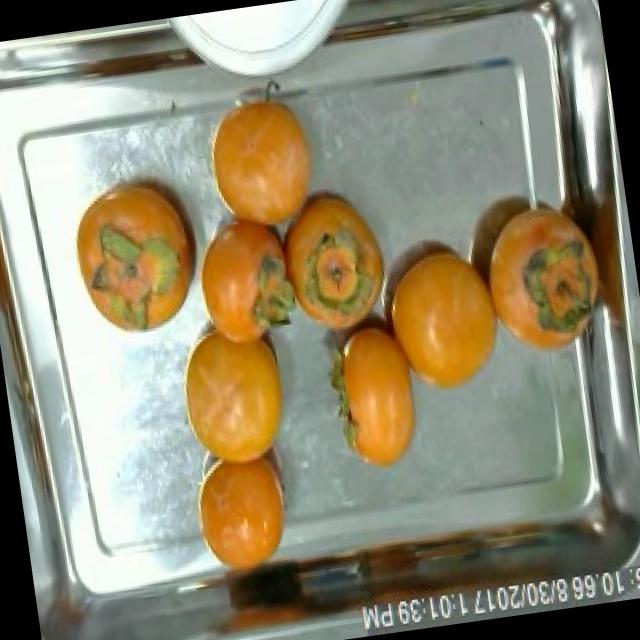Fruit: (56, 158, 216, 356), (182, 70, 338, 254), (373, 218, 516, 409), (162, 298, 302, 482), (468, 188, 608, 371), (263, 168, 401, 338), (325, 312, 438, 482), (180, 430, 306, 582)
